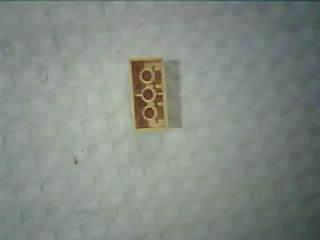lego: (125, 55, 171, 135)
